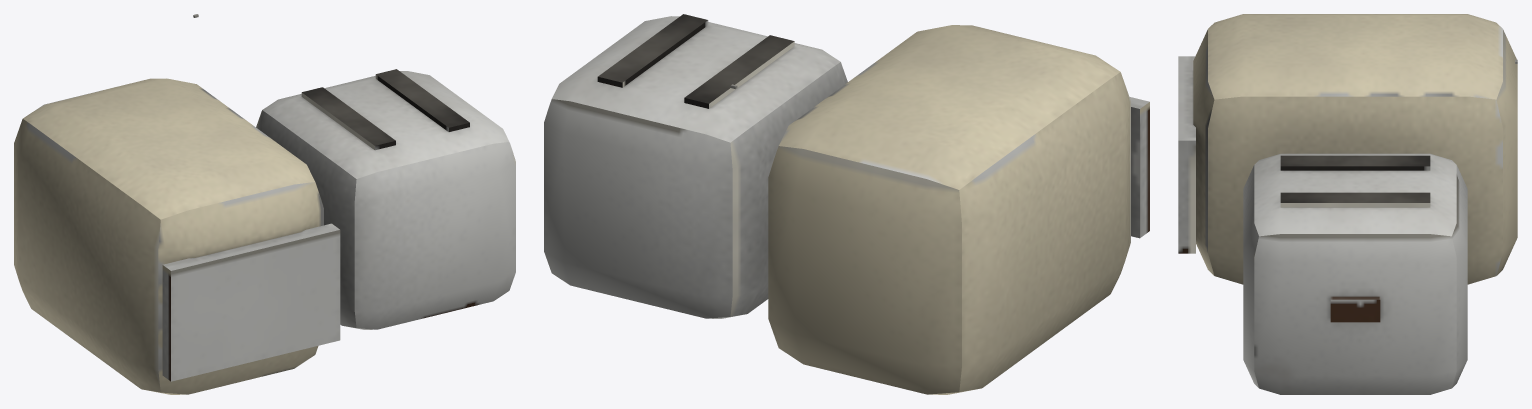
Rendered from H_Microwave.fbx.
3 views of the same model, side by side, from view 1: azimuth 30°, elevation 25°; view 2: azimuth 150°, elevation 25°; view 3: azimuth 270°, elevation 25° (orthographic). The views are drawn at different scales.
Visible parts, largest first — view 1: H_Microwave; view 2: H_Microwave; view 3: H_Microwave.
Part boxes in pixels (x1,y1,x2,y2): H_Microwave: (14, 14, 515, 394); H_Microwave: (544, 14, 1149, 394); H_Microwave: (1178, 14, 1517, 394).
Size of the model in its own units: 193 by 110 by 136.
Materials: 1 (1 with a texture image).
